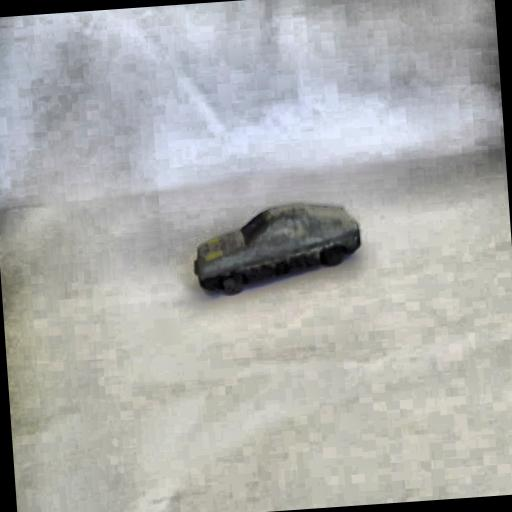normal_car: (188, 194, 366, 300)
